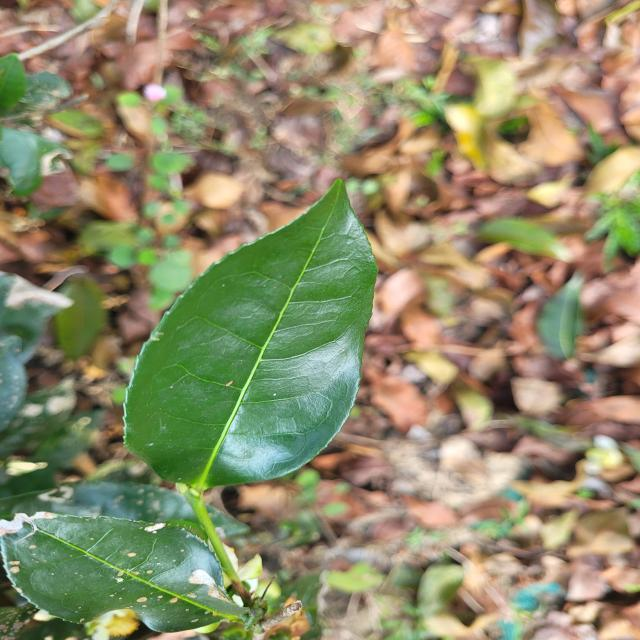Category D(7+ days, Not for Tea): (102, 155, 426, 532)
